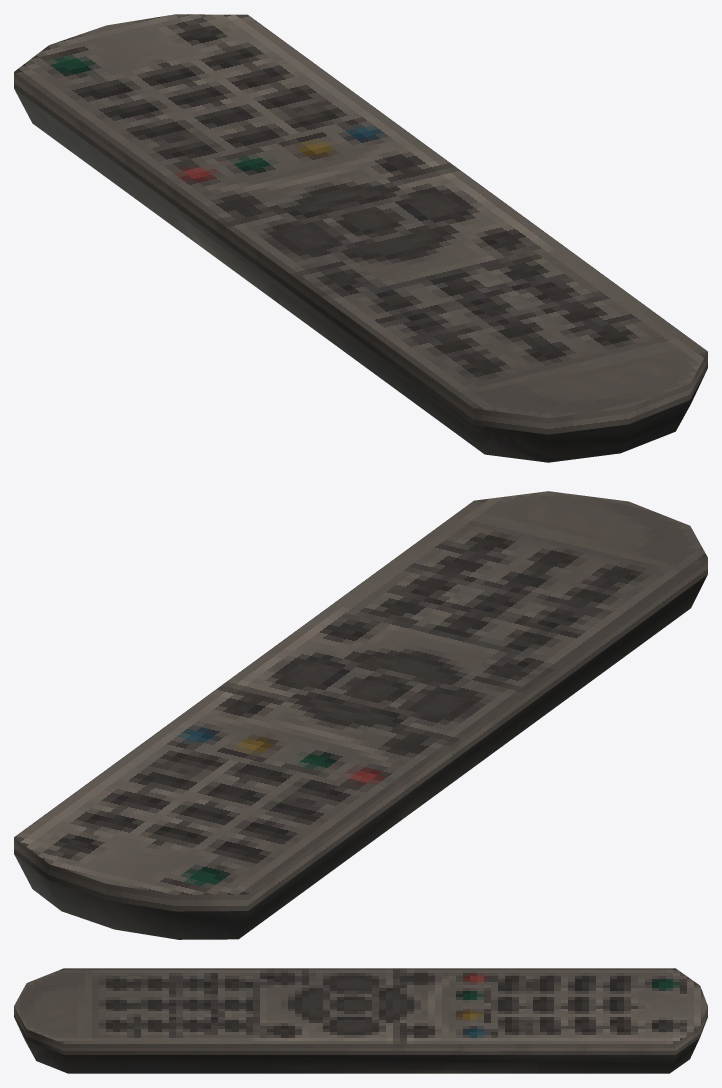
The model's file is tv_remote_mp_1.glb.
3 renders of one model, top to bottom at view 1: azimuth 30°, elevation 25°; view 2: azimuth 150°, elevation 25°; view 3: azimuth 270°, elevation 25°, orthographic. The views are drawn at different scales.
Visible parts, largest first — view 1: tv_remote_mp_1; view 2: tv_remote_mp_1; view 3: tv_remote_mp_1.
Boxes of the visible parts, x1,y1,x2,y2 form: tv_remote_mp_1: [14, 14, 707, 462]; tv_remote_mp_1: [14, 491, 707, 939]; tv_remote_mp_1: [14, 968, 707, 1073].
Size of the model in its own units: 0.074 by 0.02 by 0.2862.
1 material, 1 textured.
